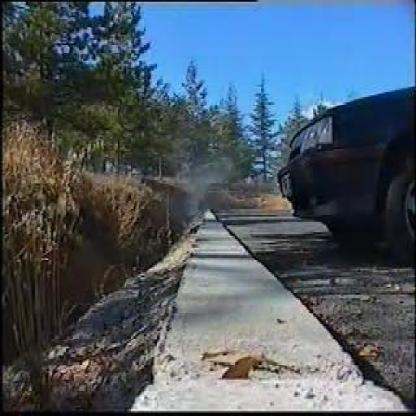-: (178, 166, 218, 218)
